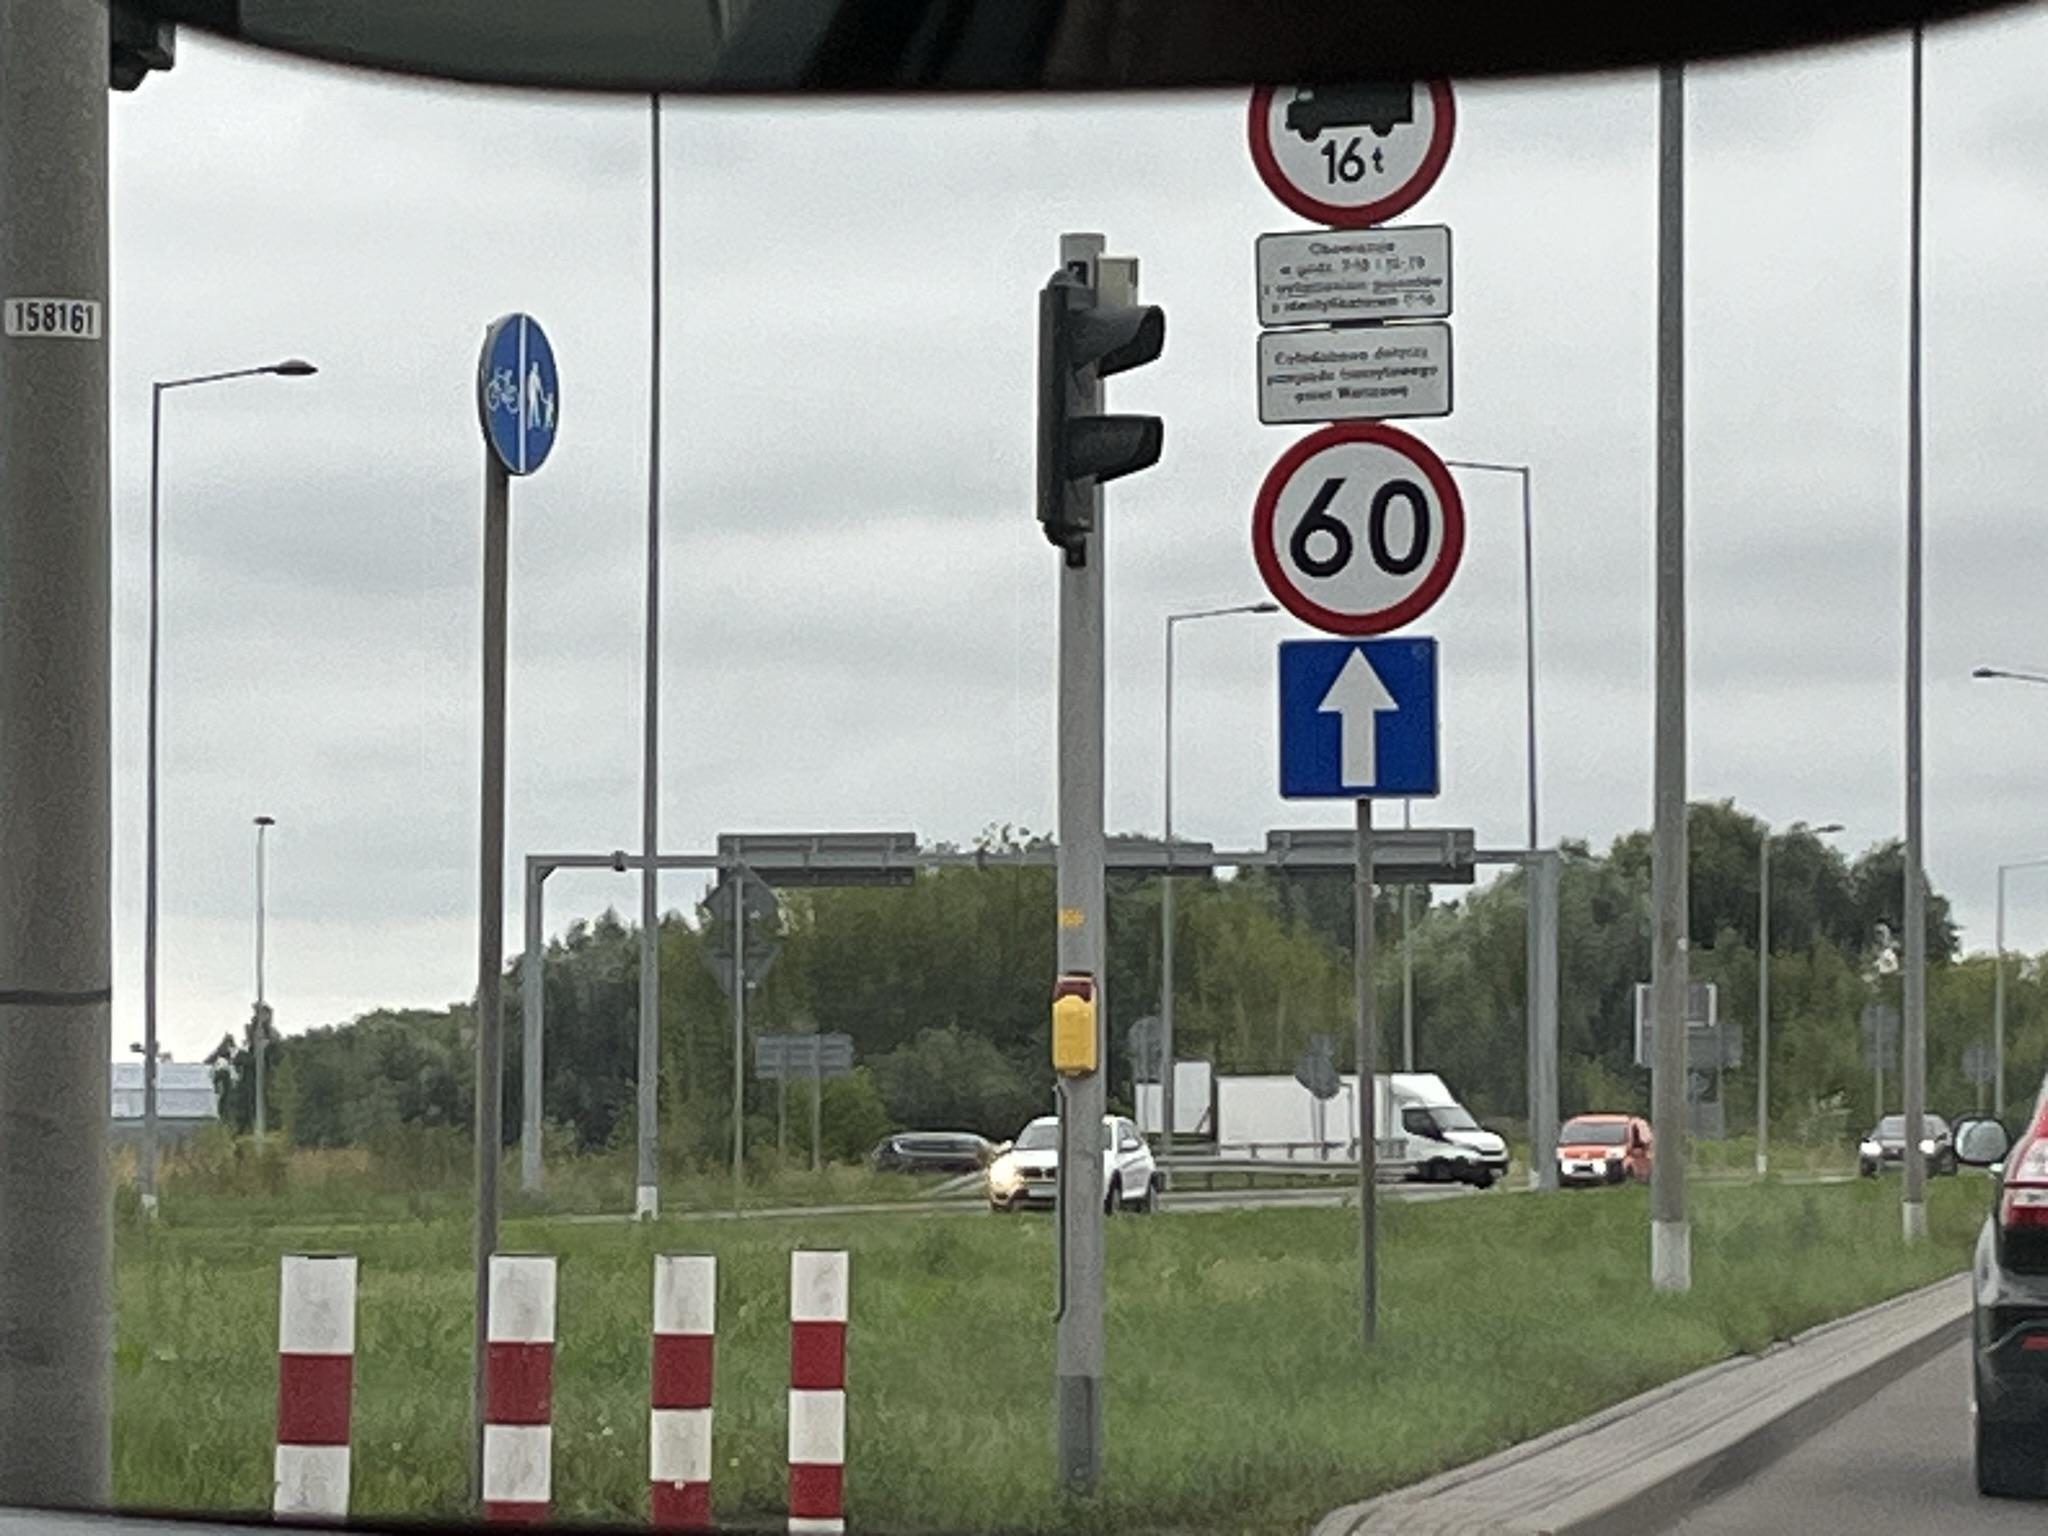information: (1274, 634, 1446, 804)
mandatory: (480, 310, 562, 476)
other: (1254, 320, 1454, 428), (1252, 222, 1458, 320)
prohibitory: (1250, 424, 1468, 634), (1248, 72, 1460, 228)
